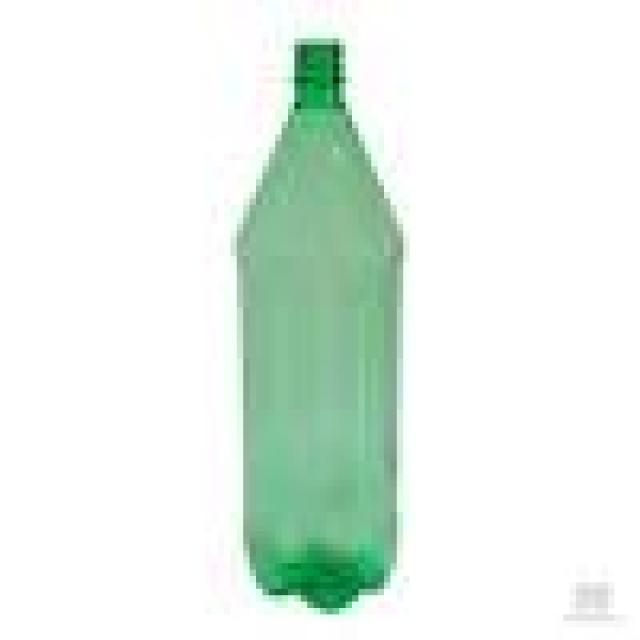bottle: (238, 42, 401, 608)
